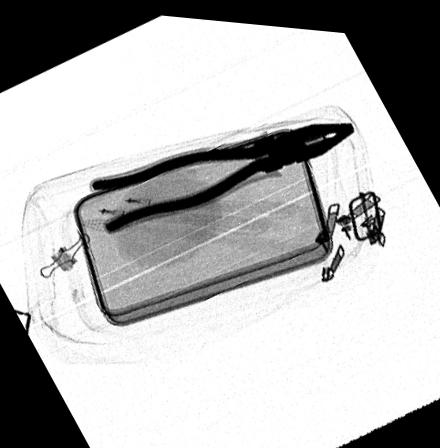Pliers: (90, 115, 357, 232)
